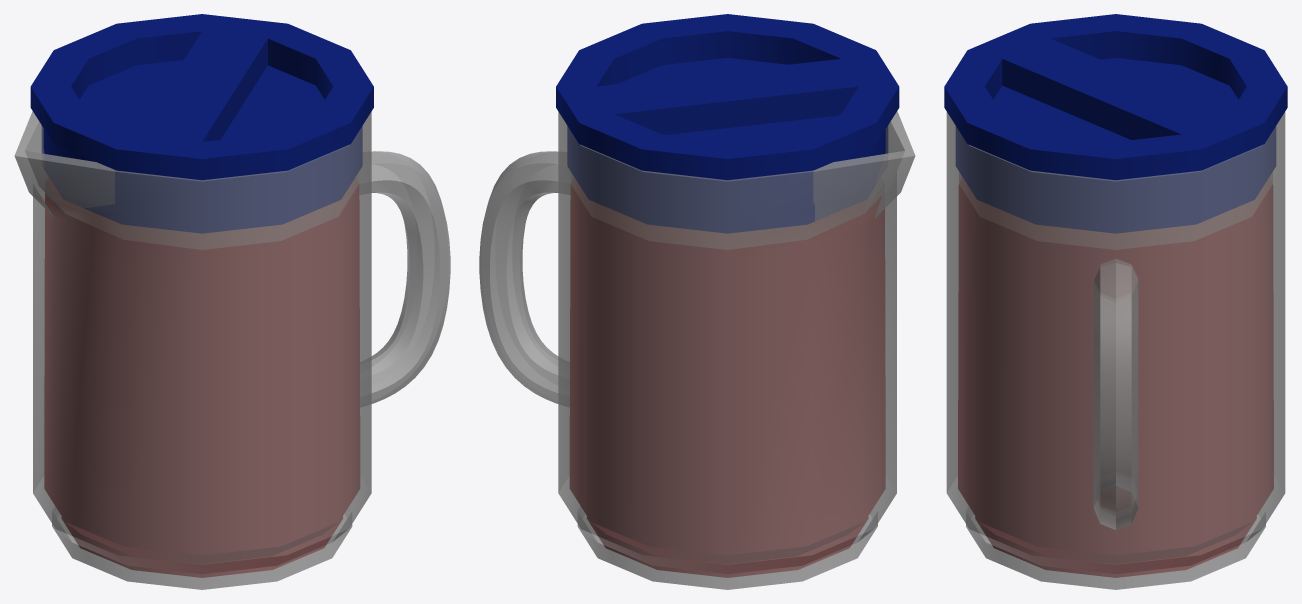
Rendered from jarra.obj.
3 renders of one model, left to right at view 1: azimuth 30°, elevation 25°; view 2: azimuth 150°, elevation 25°; view 3: azimuth 270°, elevation 25°, orthographic.
Parts seen in each view (by area): view 1: Circle.001; view 2: Circle.001; view 3: Circle.001.
Part boxes in pixels (bbox=[...]): Circle.001: bbox=[14, 14, 450, 589]; Circle.001: bbox=[479, 14, 915, 589]; Circle.001: bbox=[944, 14, 1287, 589].
Size of the model in its own units: 2.36 by 2.28 by 1.61.
